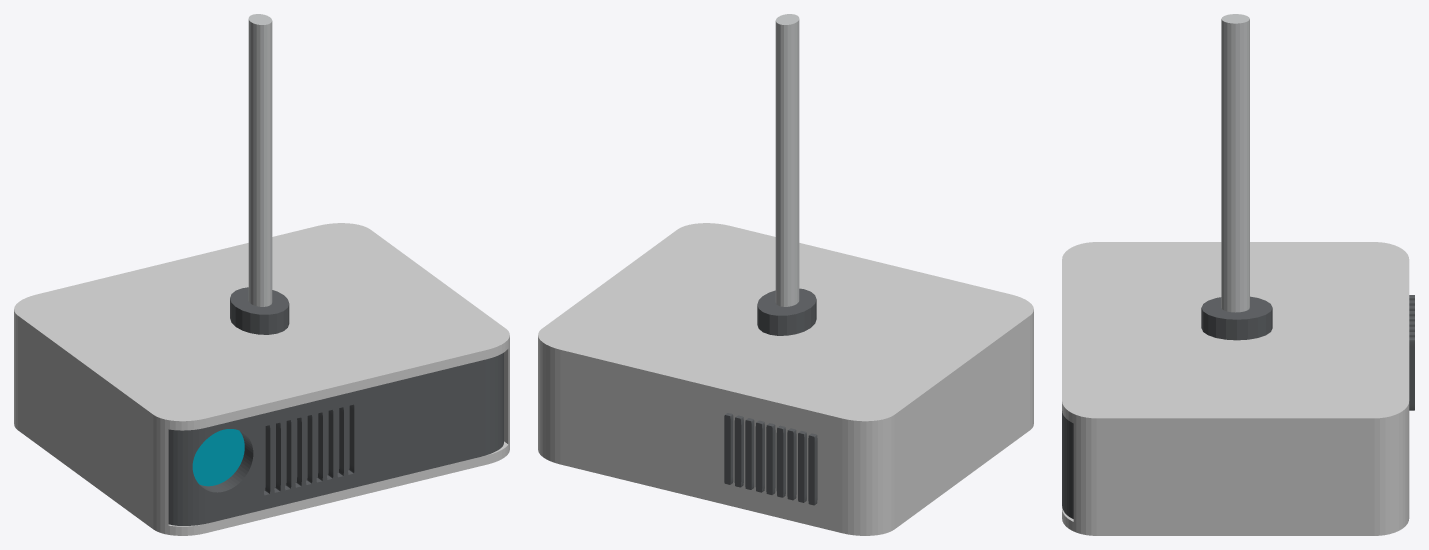
File: proyector.glb
3 renders of one model, left to right at view 1: azimuth 30°, elevation 25°; view 2: azimuth 150°, elevation 25°; view 3: azimuth 270°, elevation 25°, orthographic. The views are drawn at different scales.
Visible parts, largest first — view 1: Mesh_Mesh_head_geo.001_lambert2SG.001; view 2: Mesh_Mesh_head_geo.001_lambert2SG.001; view 3: Mesh_Mesh_head_geo.001_lambert2SG.001.
Boxes of the visible parts, left/top/right/bottom form: Mesh_Mesh_head_geo.001_lambert2SG.001: left=14, top=14, right=509, bottom=535; Mesh_Mesh_head_geo.001_lambert2SG.001: left=538, top=14, right=1033, bottom=535; Mesh_Mesh_head_geo.001_lambert2SG.001: left=1062, top=14, right=1414, bottom=535.
Size of the model in its own units: 73.32 by 83 by 62.
